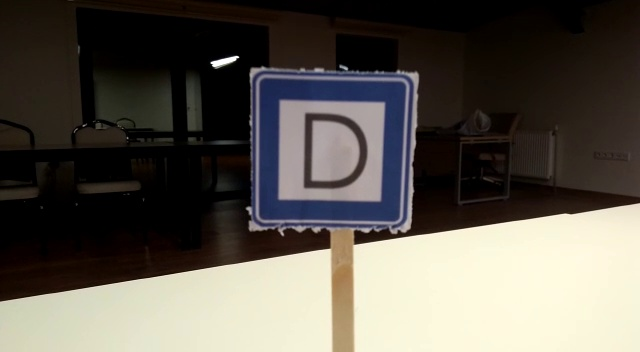durak: (250, 73, 413, 227)
